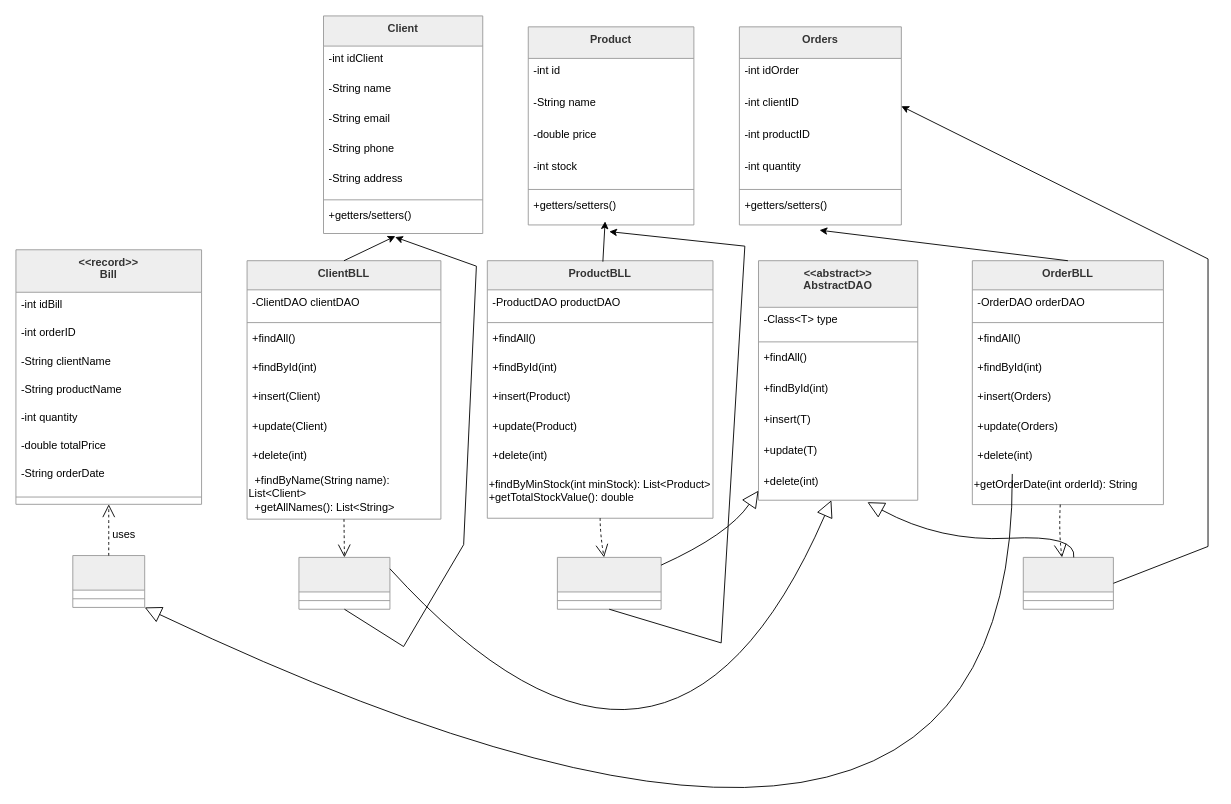
The diagram is 1231 pixels wide and 804 high, and some of its shapes have lost their labels. Each missing label, with the centre of its shape:
BillDAO: point (108, 581)
ClientDAO: point (344, 582)
OrderDAO: point (1067, 582)
ProductDAO: point (608, 582)
